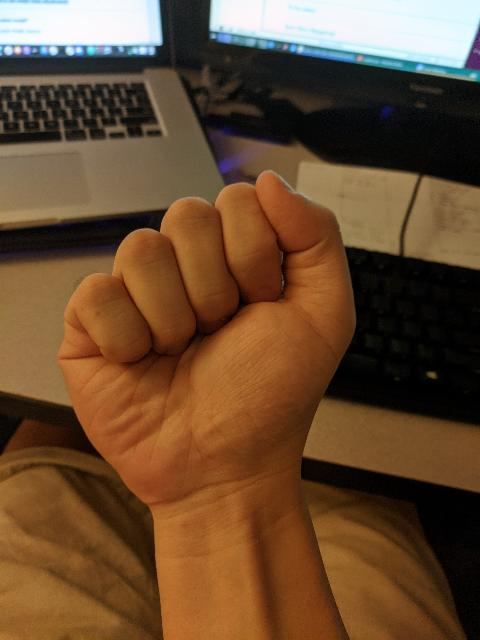A: (51, 160, 365, 516)
